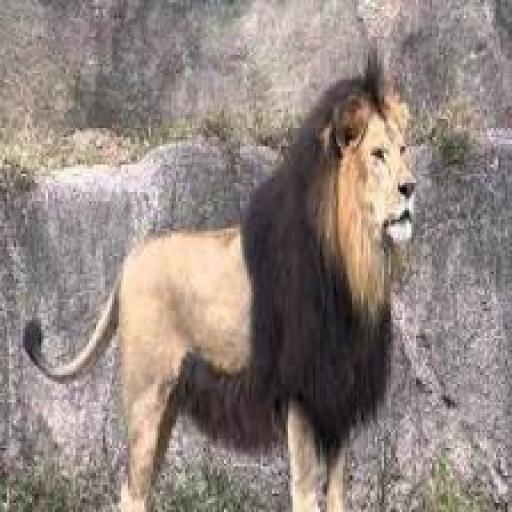lion: (41, 76, 431, 508)
